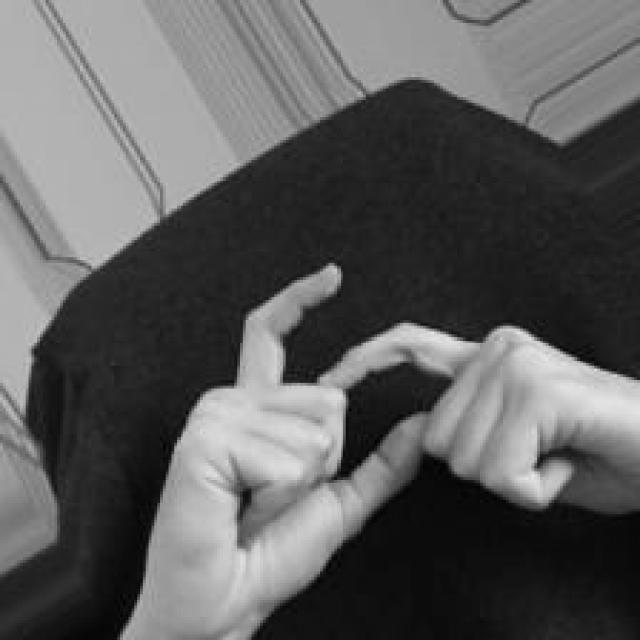G: (136, 259, 640, 640)
